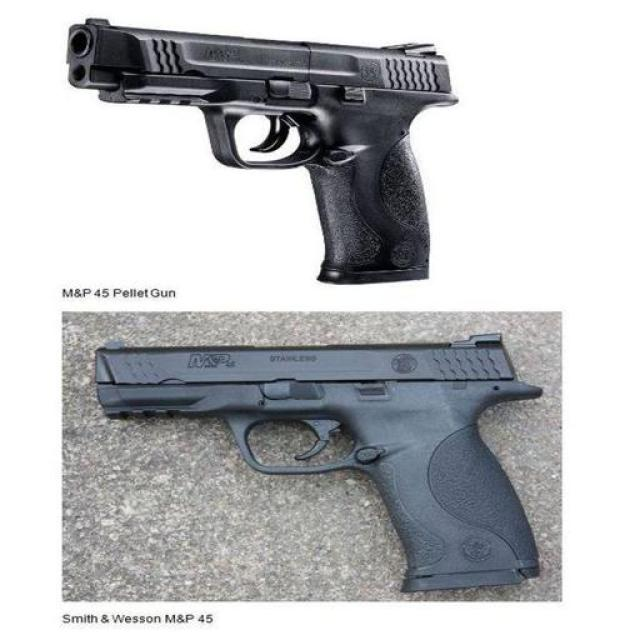pistol: (94, 334, 545, 593), (53, 9, 459, 284)
